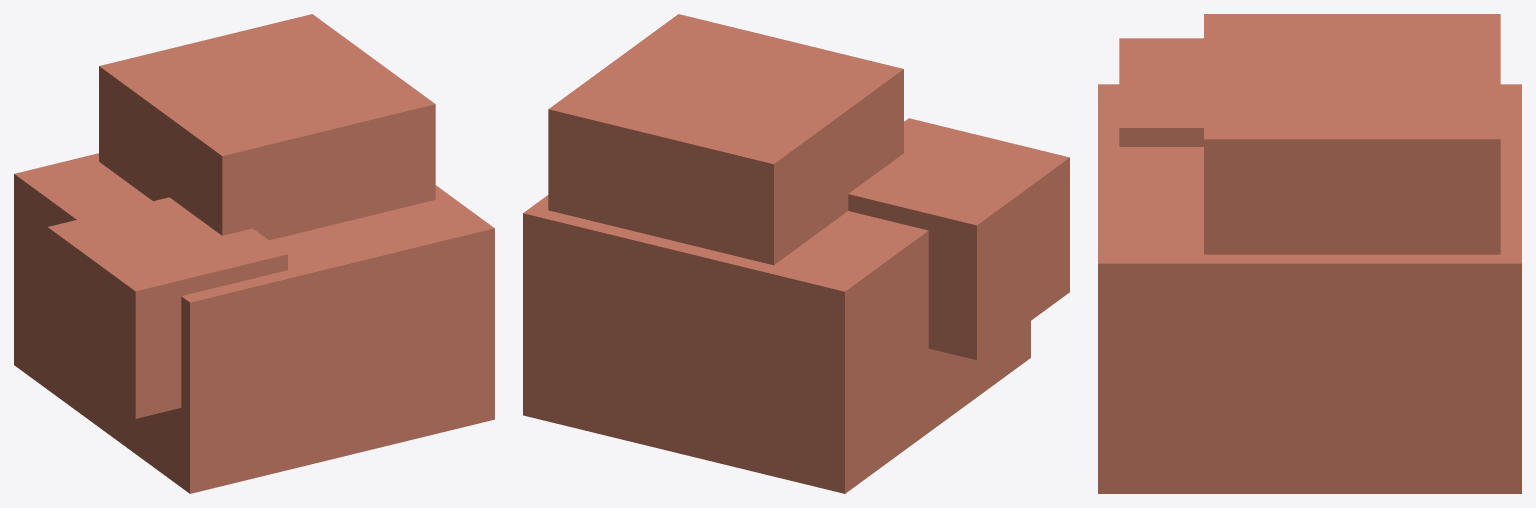
Rendered from propvar_bush_red.glb.
3 renders of one model, left to right at view 1: azimuth 30°, elevation 25°; view 2: azimuth 150°, elevation 25°; view 3: azimuth 270°, elevation 25°, orthographic. The views are drawn at different scales.
Parts seen in each view (by area): view 1: PropVar_Bush_Red; view 2: PropVar_Bush_Red; view 3: PropVar_Bush_Red.
Part boxes in pixels (bbox=[...]): PropVar_Bush_Red: bbox=[14, 14, 494, 493]; PropVar_Bush_Red: bbox=[523, 14, 1069, 493]; PropVar_Bush_Red: bbox=[1098, 14, 1521, 493].
Bounding box in the file's own units: 1.03 × 0.81 × 0.9.
